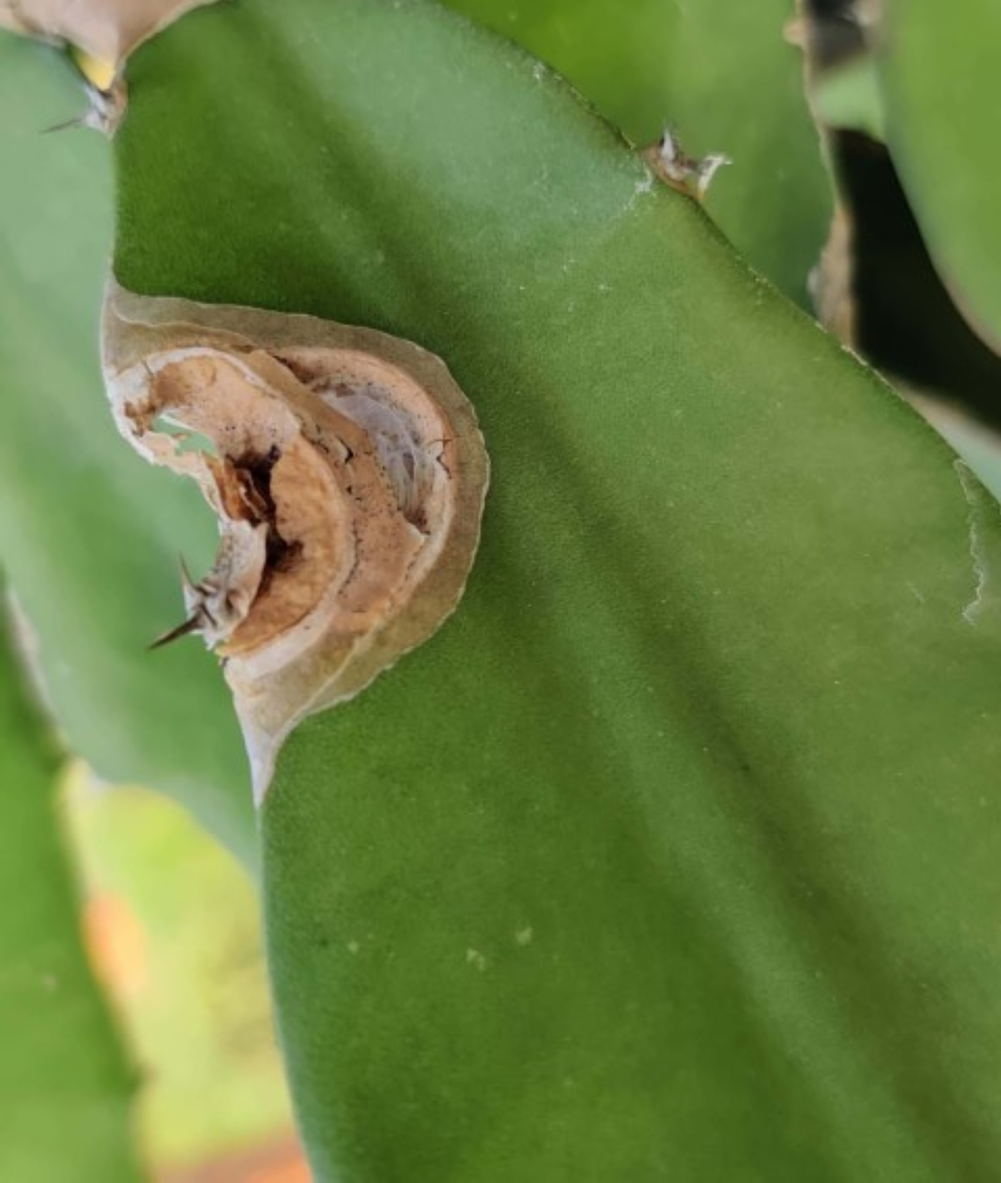stemcanker: (96, 273, 494, 811)
